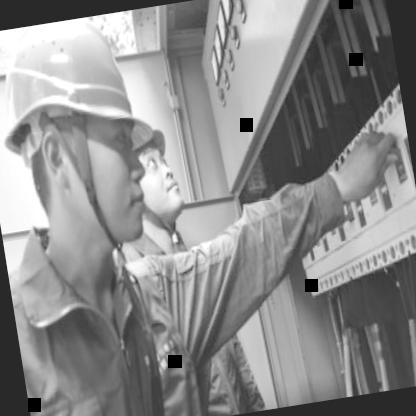helmet: (0, 9, 173, 277), (125, 107, 187, 228)
